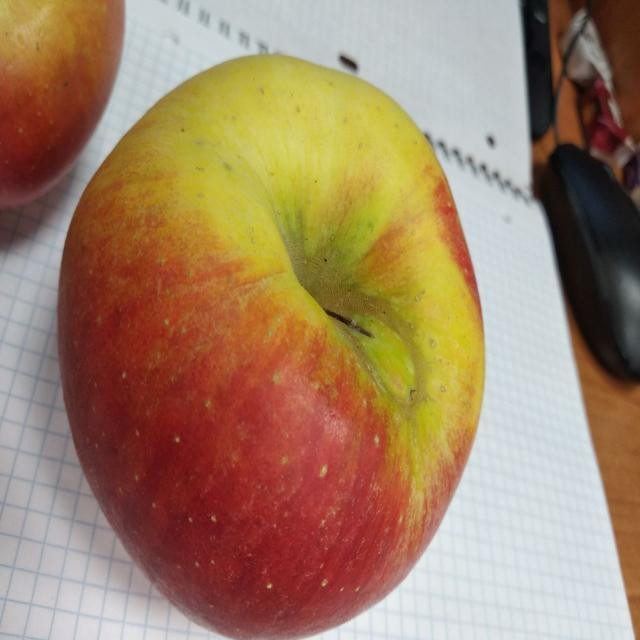Fresh Apple: (56, 56, 482, 640)
